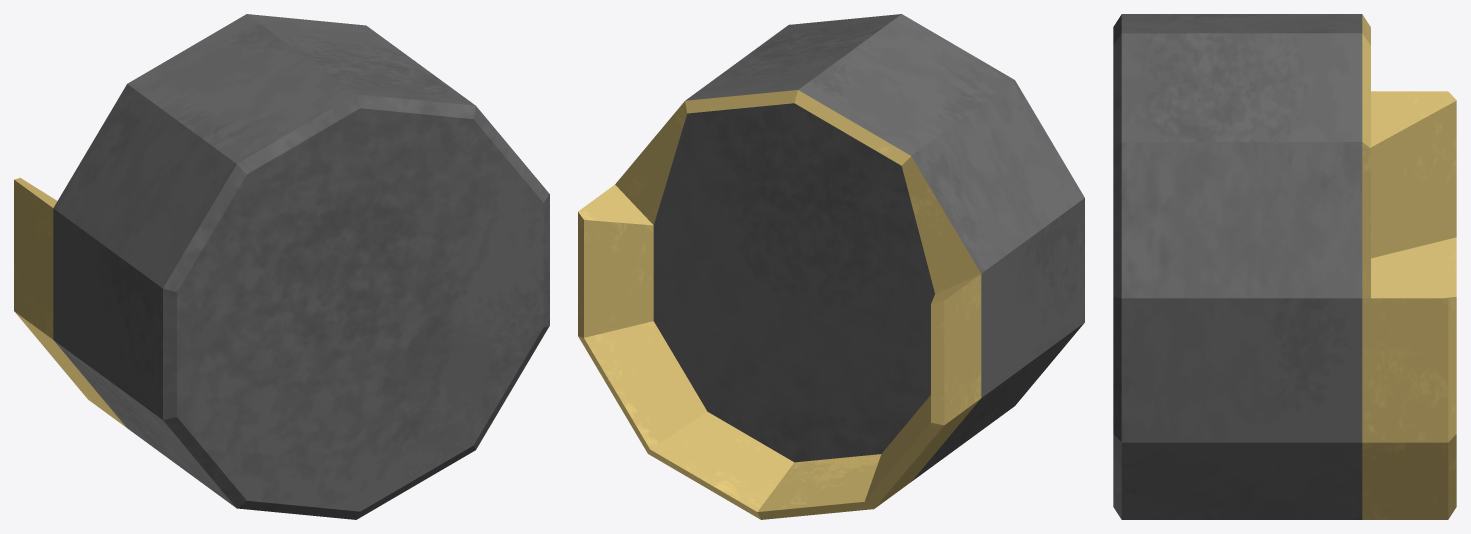
The model's file is GameStartingPoint.fbx.
The picture shows the model from 3 angles, left to right: view 1: azimuth 30°, elevation 25°; view 2: azimuth 150°, elevation 25°; view 3: azimuth 270°, elevation 25°; orthographic projection. The views are drawn at different scales.
Parts seen in each view (by area): view 1: GameStartingPoint; view 2: GameStartingPoint; view 3: GameStartingPoint.
Part boxes in pixels (x1,y1,x2,y2): GameStartingPoint: [14, 14, 549, 519]; GameStartingPoint: [578, 14, 1084, 519]; GameStartingPoint: [1113, 14, 1456, 519].
Bounding box in the file's own units: 2.85 × 3 × 2.
